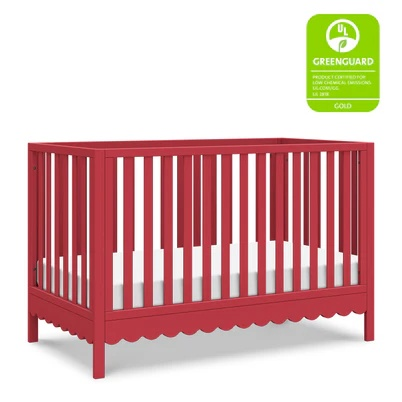crib: (28, 138, 373, 377)
